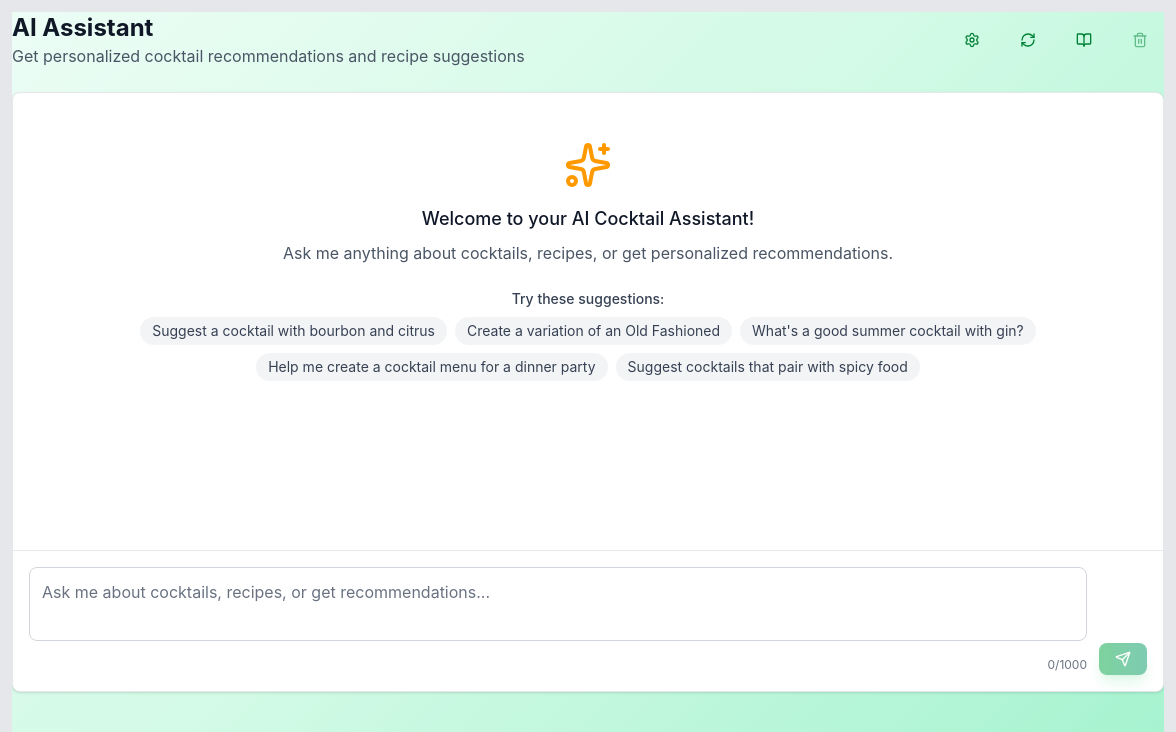
AIAssistant Component › shows loading state during AI response
In the text box with placeholder "Ask me about cocktails, recipes, or get recommendations...": (558, 604) [29, 567, 1087, 641], type "Test message"
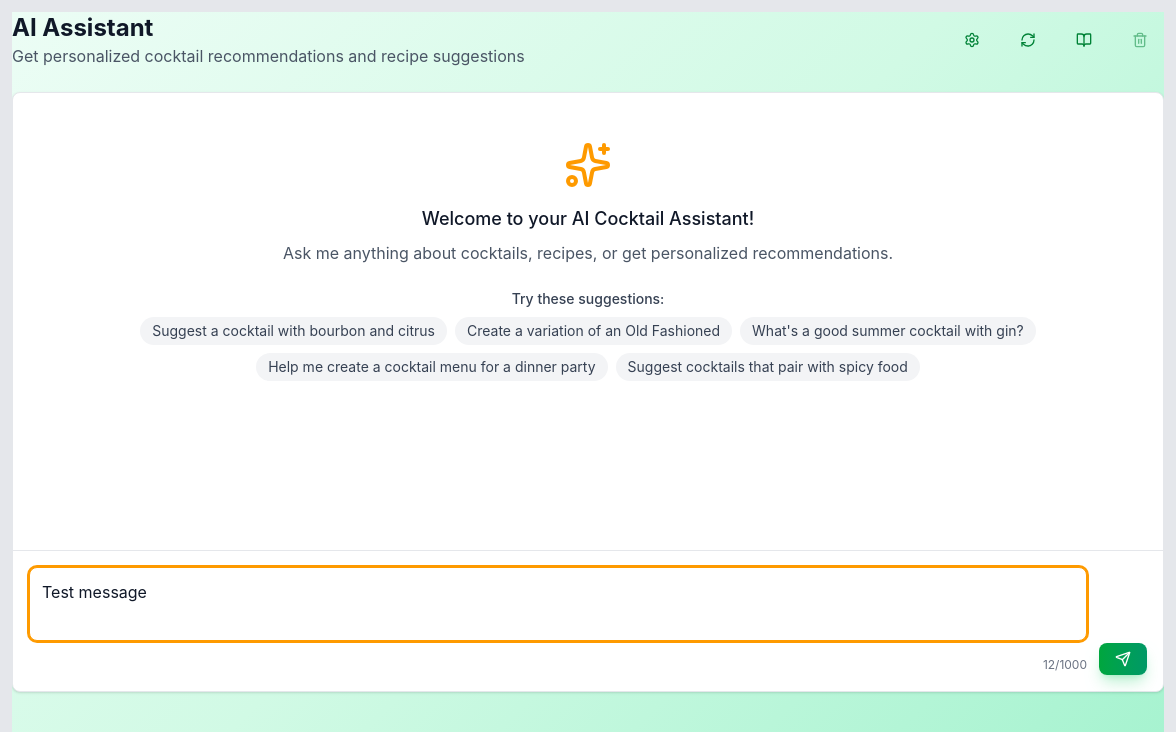
Now the button named "send message" is enabled, box [1099, 643, 1147, 675]
